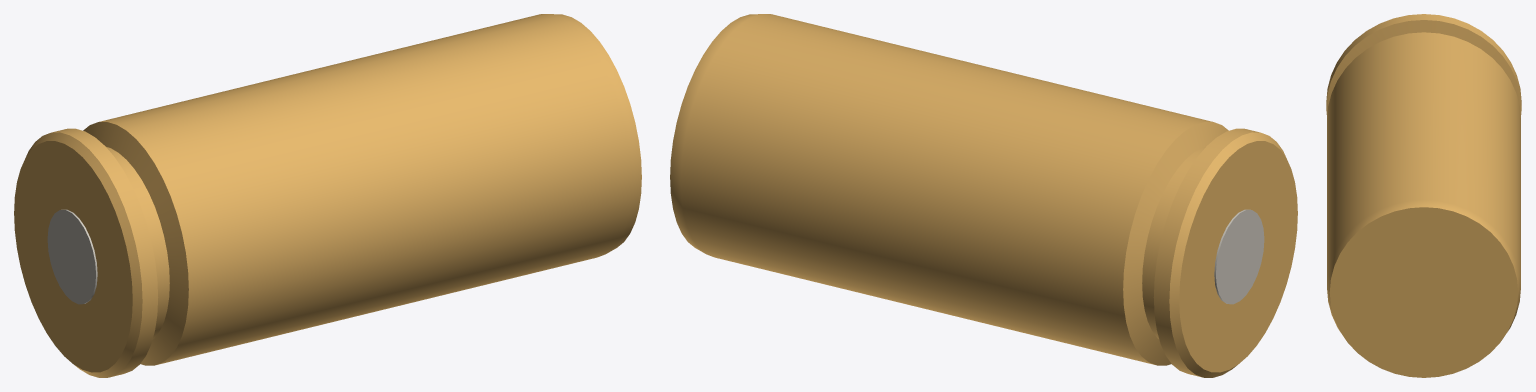
The model's file is estojo.obj.
The picture shows the model from 3 angles, left to right: view 1: azimuth 30°, elevation 25°; view 2: azimuth 150°, elevation 25°; view 3: azimuth 270°, elevation 25°; orthographic projection. The views are drawn at different scales.
Bounding box in the file's own units: 0.1308 × 0.056 × 0.056.
